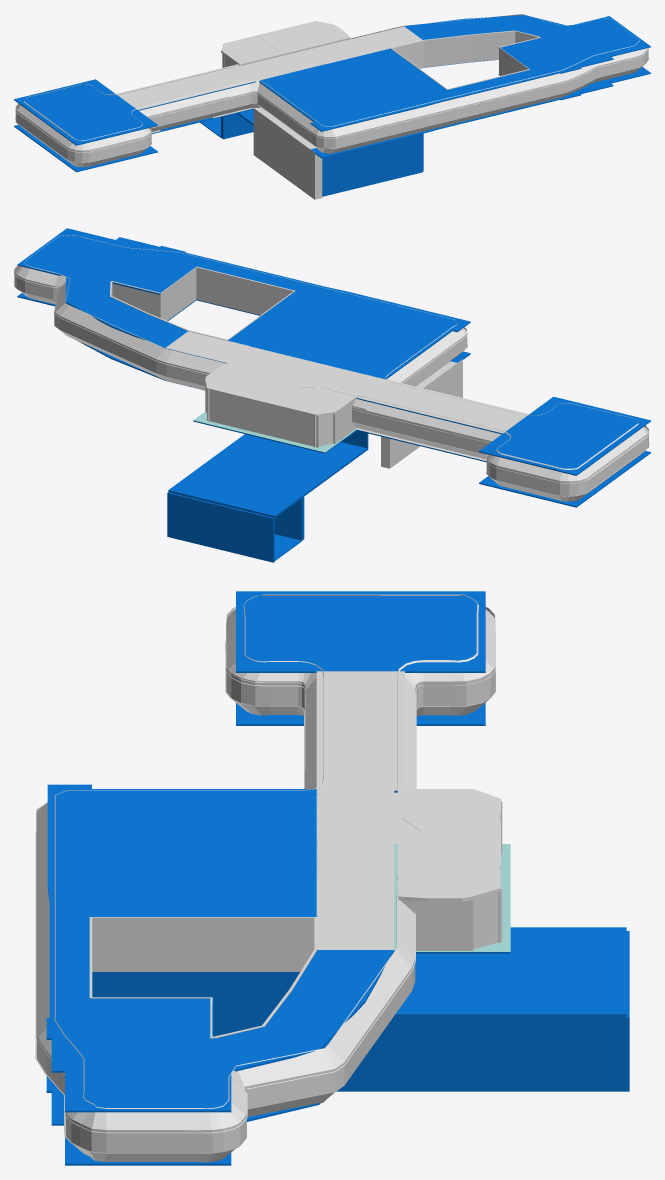
The model's file is Chapter1-1Mesh.fbx.
3 renders of one model, top to bottom at view 1: azimuth 30°, elevation 25°; view 2: azimuth 150°, elevation 25°; view 3: azimuth 270°, elevation 25°, orthographic. The views are drawn at different scales.
Parts seen in each view (by area): view 1: Ceiling, Plane.006, Plane.008, Cube.009, Cube.011, Cube.006, Plane.001, Plane.002, Plane.007, Plane.004, Cube.007; view 2: Ceiling, Cube.009, Plane.008, Cube.011, Plane.006, Plane.001, Plane.004, Plane.005, Cube.004, Plane.002, Cube.006, Plane.003 (+5 smaller); view 3: Ceiling, Cube.009, Plane.008, Cube.011, Plane.006, Plane.001, Plane.002, Plane.004, Plane.007, Cube.003, Plane.005, Plane (+1 smaller).
Boxes of the visible parts, x1,y1,x2,y2 form: Ceiling: [14, 15, 650, 145]; Plane.006: [17, 48, 648, 162]; Plane.008: [17, 14, 648, 152]; Cube.009: [237, 109, 423, 196]; Cube.011: [390, 30, 540, 89]; Cube.006: [253, 108, 322, 199]; Plane.001: [221, 21, 350, 65]; Plane.002: [14, 59, 650, 196]; Plane.007: [19, 58, 648, 167]; Plane.004: [15, 64, 240, 148]; Cube.007: [221, 113, 253, 139]; Ceiling: [17, 228, 650, 475]; Cube.009: [167, 431, 368, 562]; Plane.008: [14, 235, 649, 479]; Cube.011: [110, 266, 295, 340]; Plane.006: [14, 265, 648, 491]; Plane.001: [205, 363, 358, 416]; Plane.004: [352, 395, 646, 483]; Plane.005: [352, 406, 587, 496]; Cube.004: [207, 390, 318, 447]; Plane.002: [17, 293, 650, 560]; Cube.006: [381, 359, 462, 468]; Plane.003: [352, 422, 646, 501]; Ceiling: [46, 591, 485, 1112]; Cube.009: [92, 927, 629, 1091]; Plane.008: [36, 595, 459, 1133]; Cube.011: [89, 917, 317, 1038]; Plane.006: [36, 607, 415, 1153]; Plane.001: [397, 789, 500, 901]; Plane.002: [46, 703, 485, 1165]; Plane.004: [262, 594, 495, 790]; Plane.007: [35, 639, 333, 1162]; Cube.003: [397, 897, 473, 950]; Plane.005: [415, 607, 495, 788]; Plane: [394, 844, 510, 953].
Bounding box in the file's own units: 9285 × 1667 × 4413.
